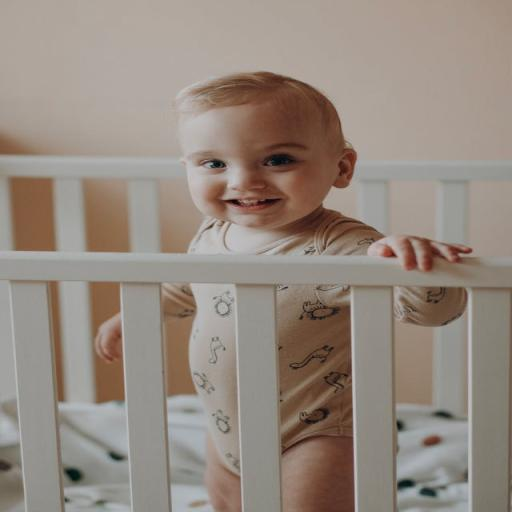baby: (176, 72, 471, 270)
crib: (0, 156, 511, 511)
